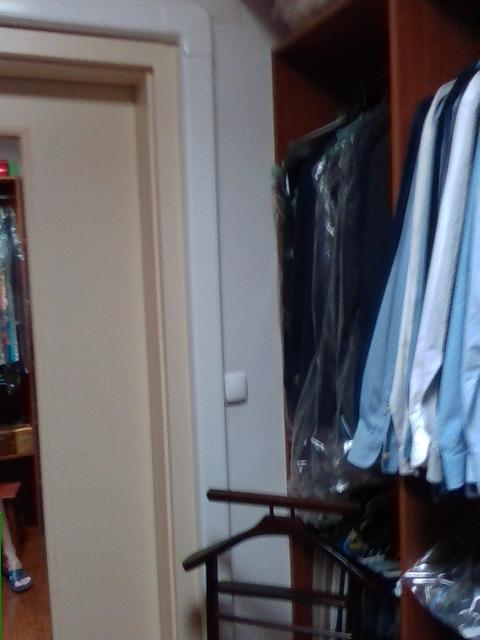door: (0, 21, 211, 639)
